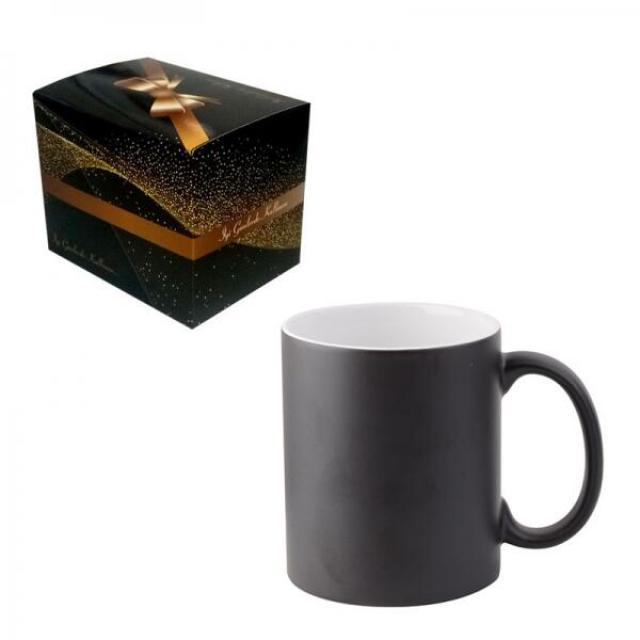Coffee Mug: (281, 300, 604, 610)
